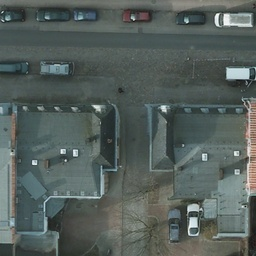car: (165, 211, 183, 245), (36, 7, 69, 23), (185, 203, 201, 236), (175, 11, 207, 26), (1, 60, 30, 76), (122, 9, 151, 23), (1, 7, 25, 22), (73, 8, 98, 21)
van: (214, 11, 255, 28), (40, 60, 72, 76), (224, 65, 256, 81)
